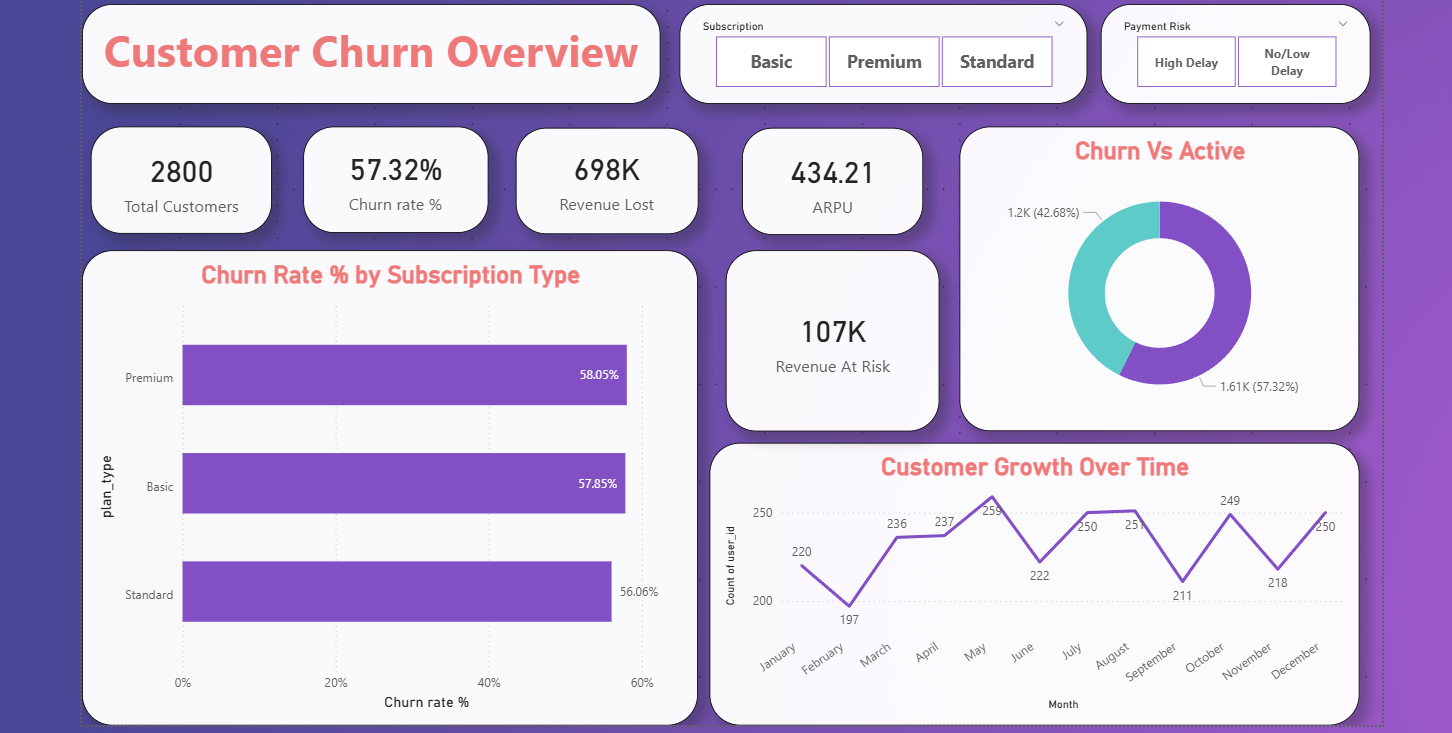

Layout of this report page (visuals, bound fields, positions):
{"tool":"powerbi","page":{"name":"Page 1","canvas":[1280,720],"ordinal":0},"visuals":[{"type":"textbox","box":[0,9.8,569.8,98.5],"z":0},{"type":"card","fields":{"Values":["churnanalysis.Total Customers"]},"box":[8.6,130.5,178.5,105.8],"z":1000},{"type":"card","fields":{"Values":["churnanalysis.Churn rate %"]},"box":[217.8,130.5,182.2,104.6],"z":2000},{"type":"card","fields":{"Values":["churnanalysis.Revenue Lost"]},"box":[427.1,131.7,179.7,104.6],"z":3000},{"type":"card","fields":{"Values":["churnanalysis.ARPU"]},"box":[649.8,131.7,178.5,105.8],"z":4000},{"type":"donutChart","title":"Churn Vs Active","fields":{"Y":["CountNonNull(churnanalysis.Churn_flag)"],"Category":["churnanalysis.Churn_flag"]},"box":[864,130.5,393.8,300.3],"z":5000},{"type":"barChart","title":"Churn Rate % by Subscription Type","fields":{"Category":["churnanalysis.plan_type"],"Y":["churnanalysis.Churn rate %"]},"box":[0,252.3,606.8,467.7],"z":6000},{"type":"lineChart","title":"Customer Growth Over Time","fields":{"Category":["churnanalysis.signup_date.Variation.Date Hierarchy.Month","churnanalysis.signup_date.Variation.Date Hierarchy.Day"],"Y":["CountNonNull(churnanalysis.user_id)"]},"box":[617.8,441.8,640,278.2],"z":7000},{"type":"slicer","fields":{"Values":["churnanalysis.plan_type"]},"box":[588.3,9.8,401.2,98.5],"z":8000},{"type":"slicer","fields":{"Values":["churnanalysis.Payment_Risk"]},"box":[1003.1,9.8,265.8,98.5],"z":9000},{"type":"card","fields":{"Values":["churnanalysis.Revenue At Risk"]},"box":[633.8,252.3,210.5,178.5],"z":10000}]}

Visuals, with their boxes in screenshot pixels (x1, y1, x2, y2):
textbox: locate(87, 2, 659, 101)
card - churnanalysis.Total Customers: locate(96, 124, 275, 230)
card - churnanalysis.Churn rate %: locate(306, 124, 489, 229)
card - churnanalysis.Revenue Lost: locate(516, 125, 697, 230)
card - churnanalysis.ARPU: locate(740, 125, 919, 231)
"Churn Vs Active" donutChart: locate(955, 124, 1351, 425)
"Churn Rate % by Subscription Type" barChart: locate(87, 246, 697, 716)
"Customer Growth Over Time" lineChart: locate(708, 436, 1351, 716)
slicer - churnanalysis.plan_type: locate(678, 2, 1081, 101)
slicer - churnanalysis.Payment_Risk: locate(1095, 2, 1362, 101)
card - churnanalysis.Revenue At Risk: locate(724, 246, 935, 425)
